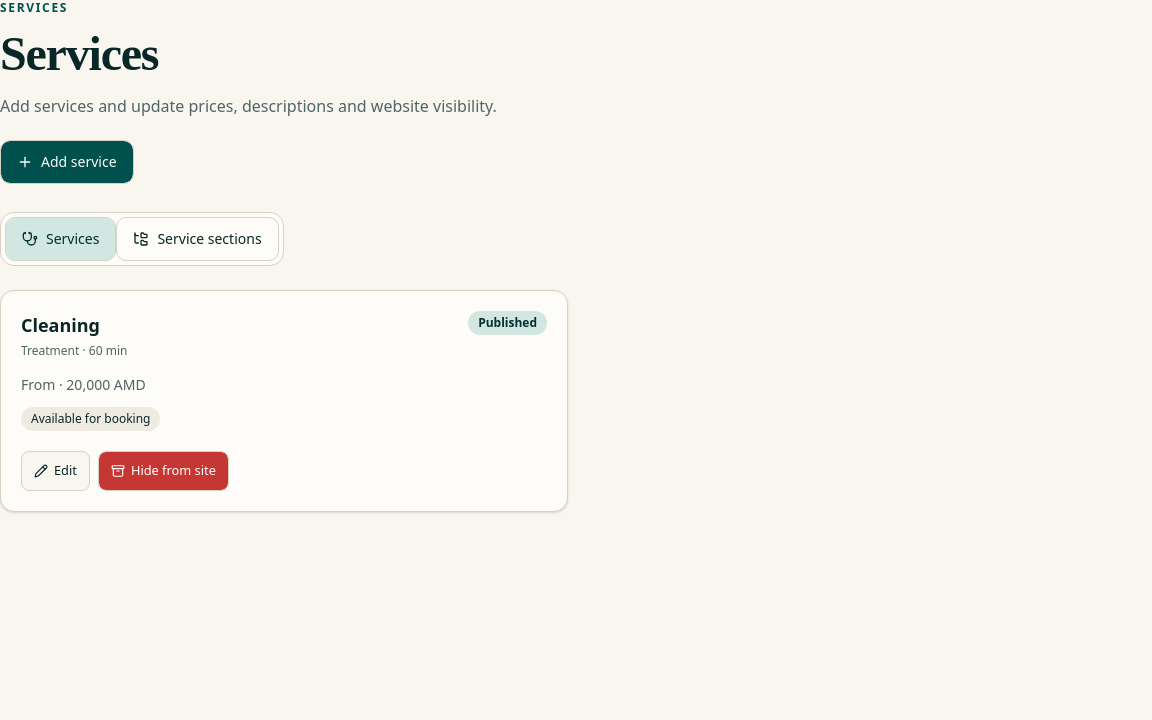
Test case: staff category and service management › surfaces category referential conflicts without optimistic removal
The width and height of the screenshot is (1152, 720).
Expected: the heading "Cleaning" is shown, [21,313,100,337]
Click the tab "Service sections".
click(198, 239)  # box [116,217,279,261]
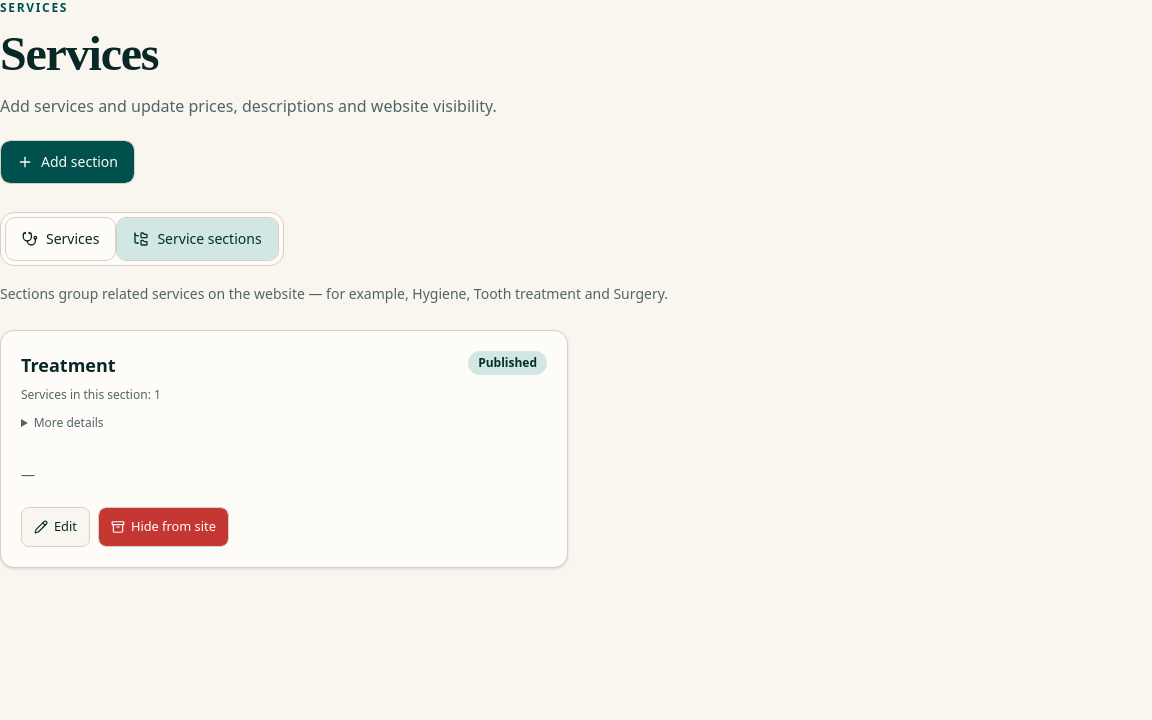
Now the heading "Treatment" is shown, box [21,353,116,377]
Click the button "Hide from site".
click(163, 527)  # box [98,507,229,547]
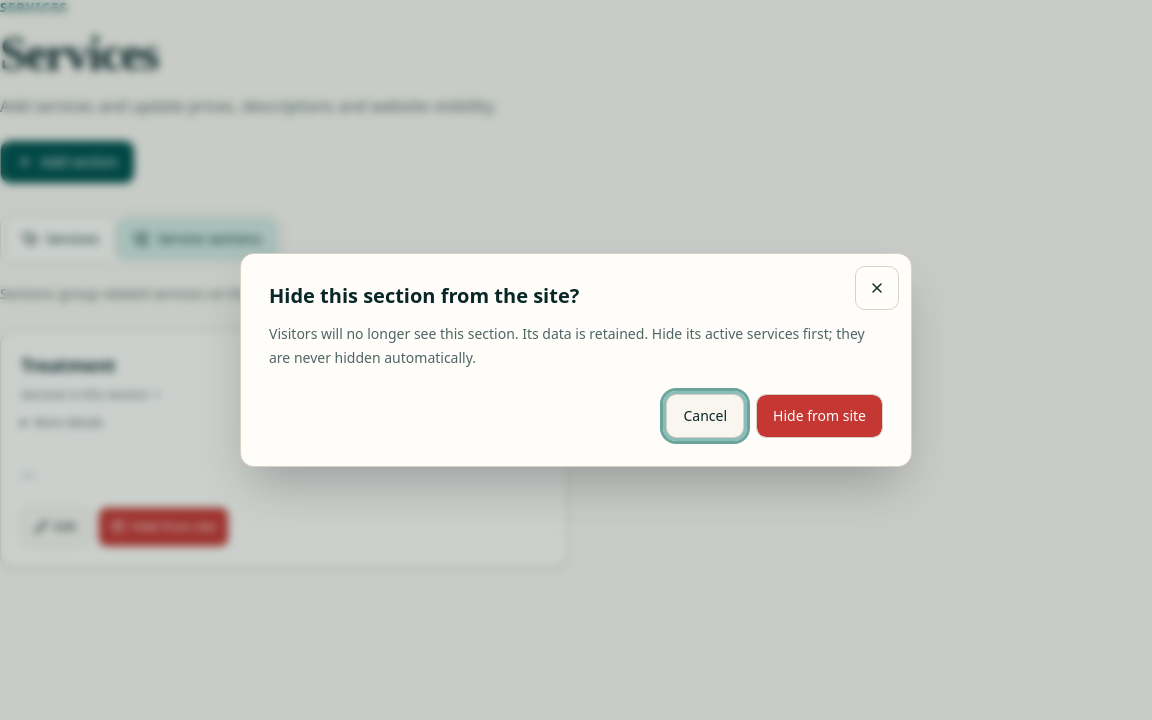
Click the button "Hide from site".
click(820, 416)  # box [756,394,883,438]
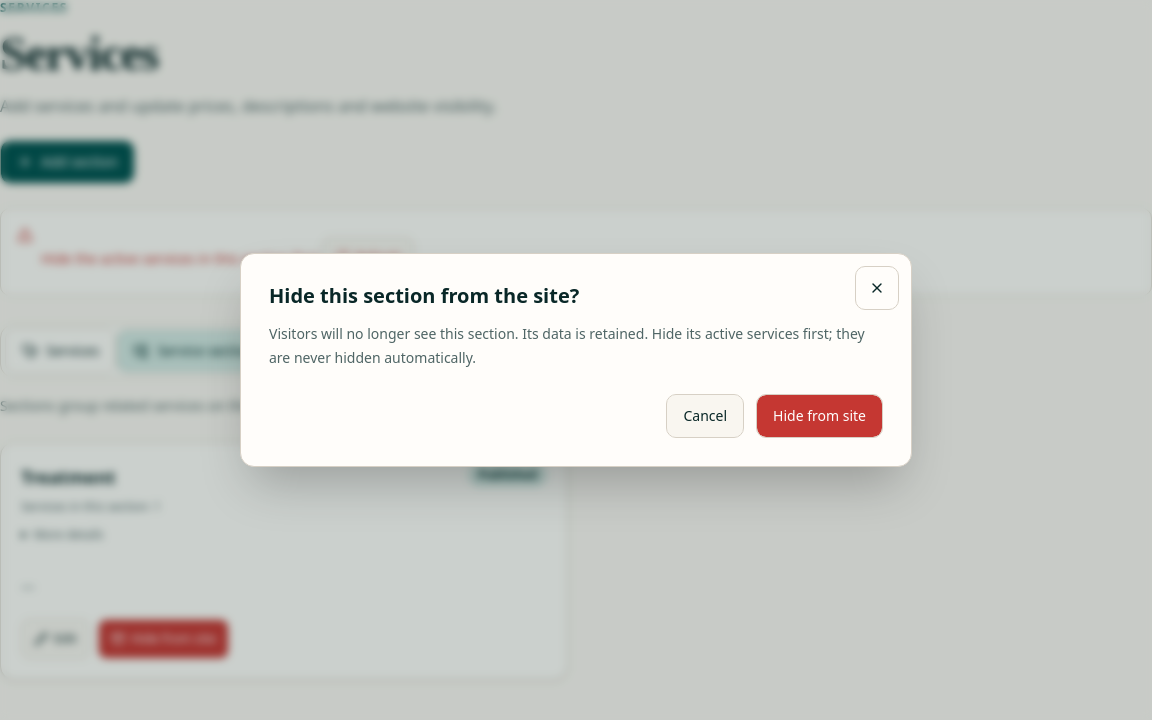
Now the heading "Treatment" is shown, box [21,465,116,489]
Now the text "Hide the active services in this section first." is shown, box [41,249,322,268]
